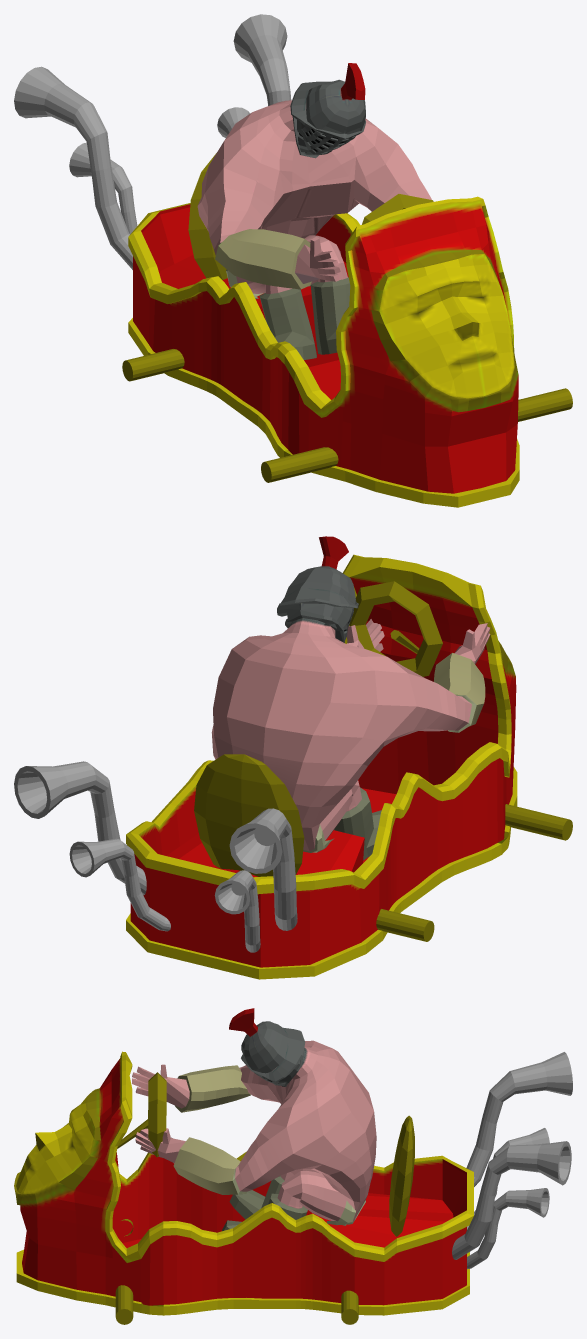
The model's file is GladiGiroIzq_000562.obj.
3 views of the same model, one above another, from view 1: azimuth 30°, elevation 25°; view 2: azimuth 150°, elevation 25°; view 3: azimuth 270°, elevation 25° (orthographic). The views are drawn at different scales.
Parts seen in each view (by area): view 1: GladiChasis_GladiChasisH, Gadiador_Gladiador_H, GladiTubos_GladiTubosH, GladiVolante_GladiVolanteH; view 2: GladiChasis_GladiChasisH, Gadiador_Gladiador_H, GladiTubos_GladiTubosH, GladiVolante_GladiVolanteH; view 3: GladiChasis_GladiChasisH, Gadiador_Gladiador_H, GladiTubos_GladiTubosH, GladiVolante_GladiVolanteH.
Boxes of the visible parts, bbox=[...] form: GladiChasis_GladiChasisH: bbox=[128, 196, 519, 507]; Gadiador_Gladiador_H: bbox=[197, 63, 431, 359]; GladiTubos_GladiTubosH: bbox=[14, 14, 291, 269]; GladiVolante_GladiVolanteH: bbox=[122, 153, 572, 482]; GladiChasis_GladiChasisH: bbox=[126, 554, 517, 979]; Gadiador_Gladiador_H: bbox=[211, 536, 490, 860]; GladiTubos_GladiTubosH: bbox=[14, 761, 297, 952]; GladiVolante_GladiVolanteH: bbox=[194, 581, 572, 941]; GladiChasis_GladiChasisH: bbox=[14, 1051, 473, 1315]; Gadiador_Gladiador_H: bbox=[132, 1008, 376, 1231]; GladiTubos_GladiTubosH: bbox=[452, 1052, 572, 1269]; GladiVolante_GladiVolanteH: bbox=[115, 1072, 414, 1324].
Size of the model in its own units: 5.46 by 5.7 by 10.78.
4 materials, 4 textured.
